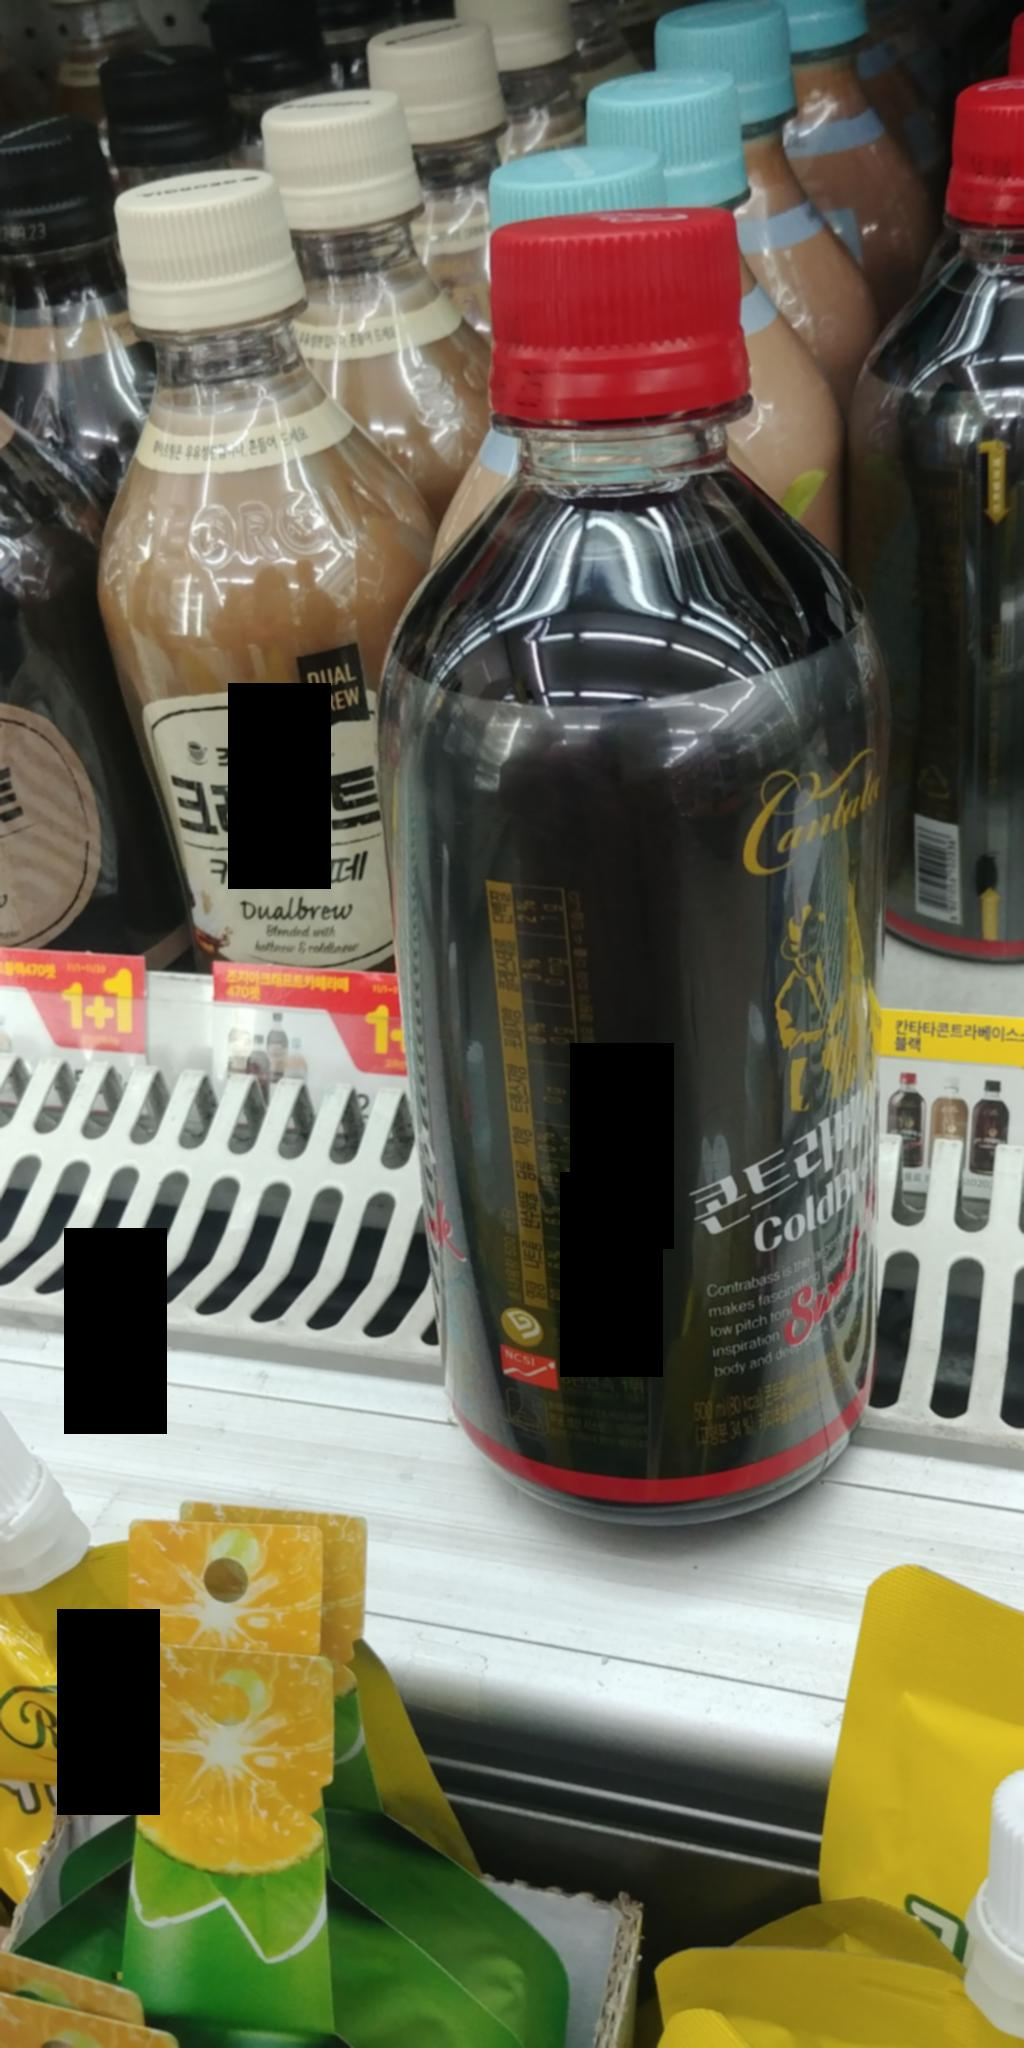contrabass_sweetblack: (366, 192, 900, 1539)
